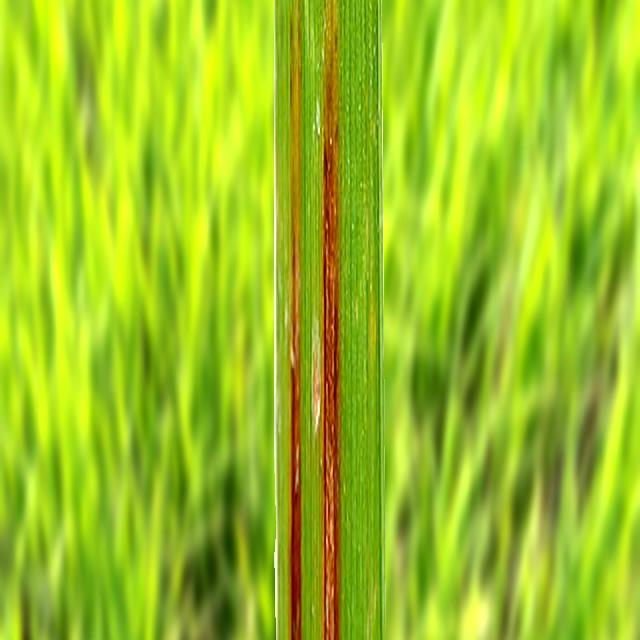NBS: (323, 0, 340, 640), (290, 0, 301, 640)
